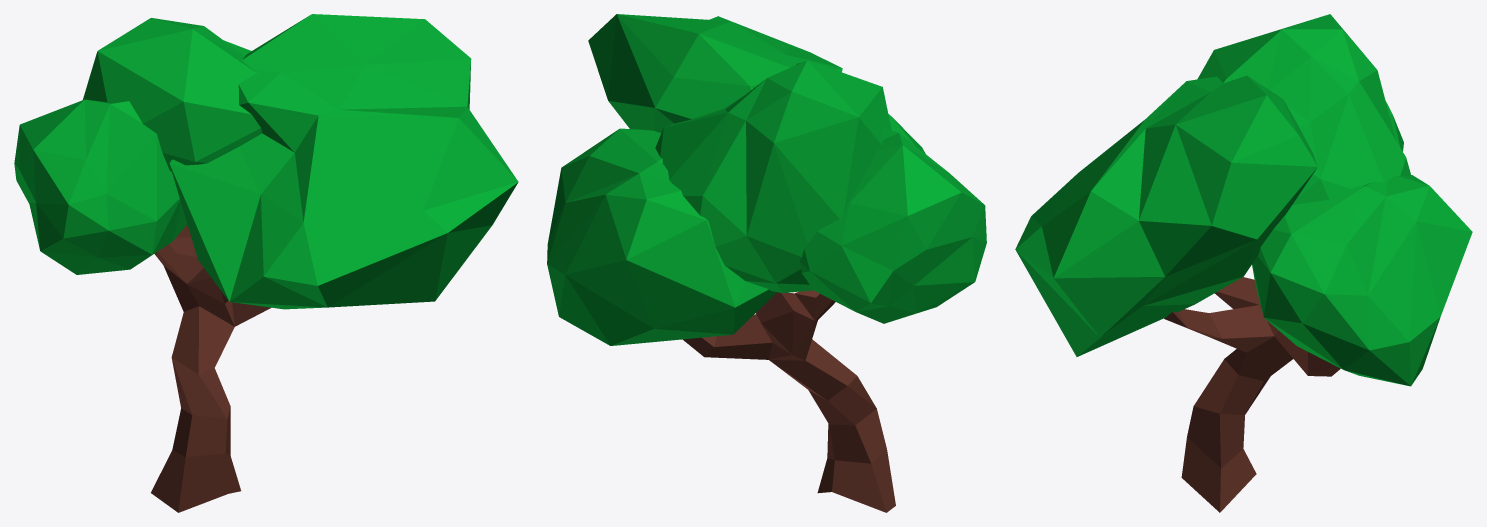
The model's file is TreeA_04Main.fbx.
3 renders of one model, left to right at view 1: azimuth 30°, elevation 25°; view 2: azimuth 150°, elevation 25°; view 3: azimuth 270°, elevation 25°, orthographic. The views are drawn at different scales.
Visible parts, largest first — view 1: TreeA_04Main; view 2: TreeA_04Main; view 3: TreeA_04Main.
Boxes of the visible parts, x1,y1,x2,y2 form: TreeA_04Main: [14, 14, 518, 512]; TreeA_04Main: [547, 14, 986, 512]; TreeA_04Main: [1015, 14, 1472, 512].
Bounding box in the file's own units: 9.01 × 9.5 × 8.32.
